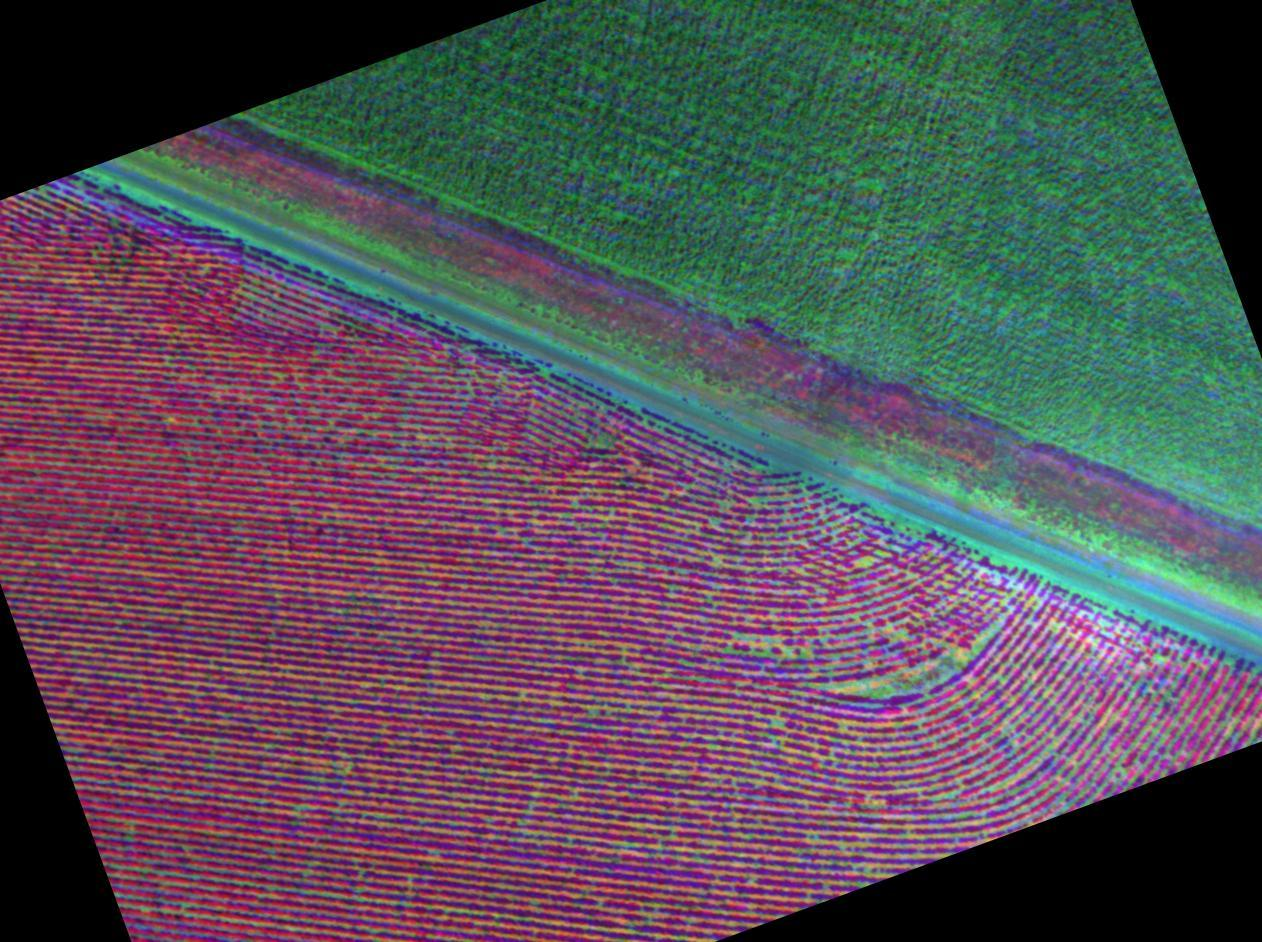dc: (1038, 673, 1170, 766), (828, 653, 980, 711), (693, 780, 779, 855), (936, 585, 1025, 643), (711, 615, 797, 675)
